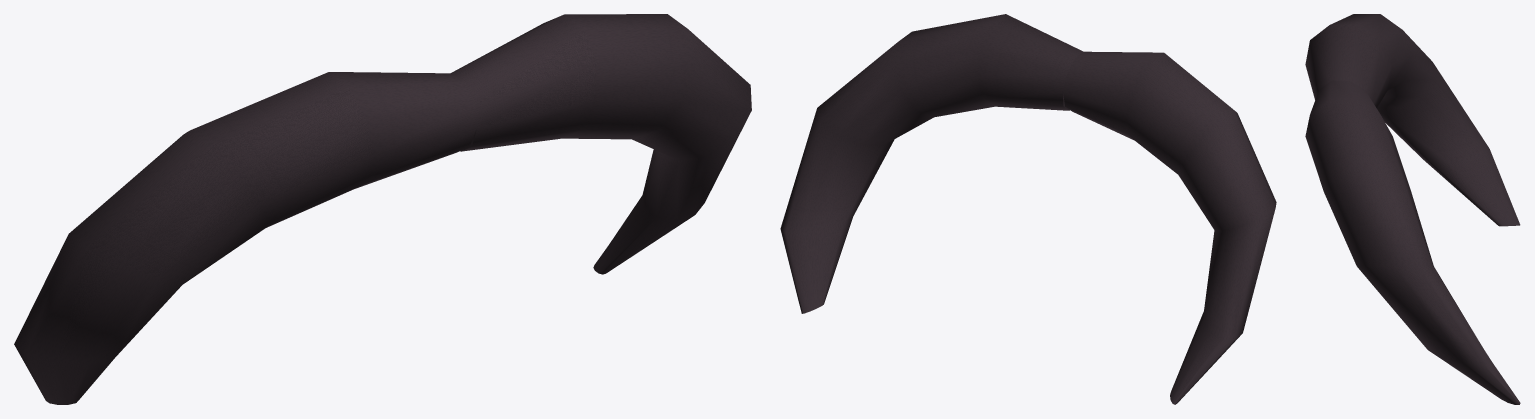
Rendered from facial_western_droop_default.gltf.
3 views of the same model, side by side, from view 1: azimuth 30°, elevation 25°; view 2: azimuth 150°, elevation 25°; view 3: azimuth 270°, elevation 25° (orthographic). The views are drawn at different scales.
Visible parts, largest first — view 1: Western Droop Moustache; view 2: Western Droop Moustache; view 3: Western Droop Moustache.
Part boxes in pixels (x1,y1,x2,y2): Western Droop Moustache: [14, 14, 751, 404]; Western Droop Moustache: [780, 14, 1276, 404]; Western Droop Moustache: [1305, 14, 1520, 404].
Bounding box in the file's own units: 0.2008 × 0.1081 × 0.0836.
1 material, 1 textured.
